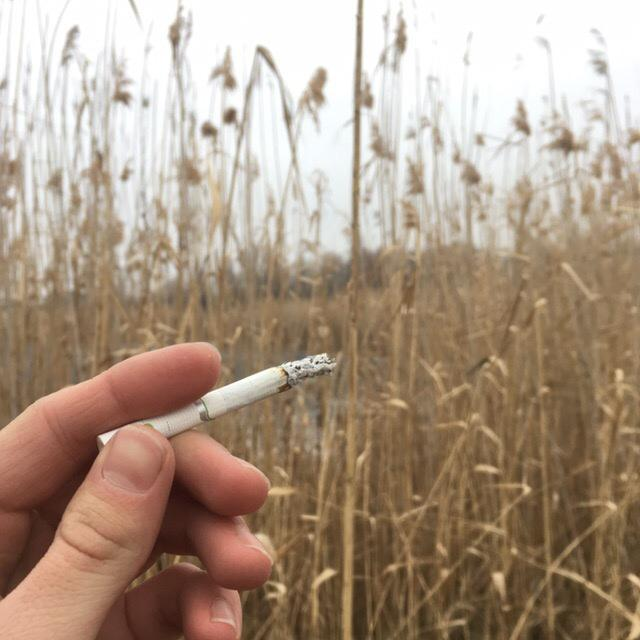cigarette: (96, 352, 338, 451)
